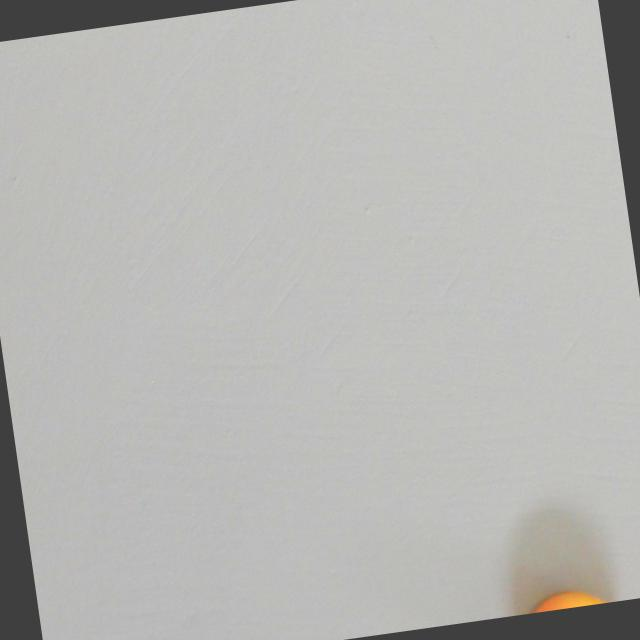dañado: (507, 578, 625, 616)
